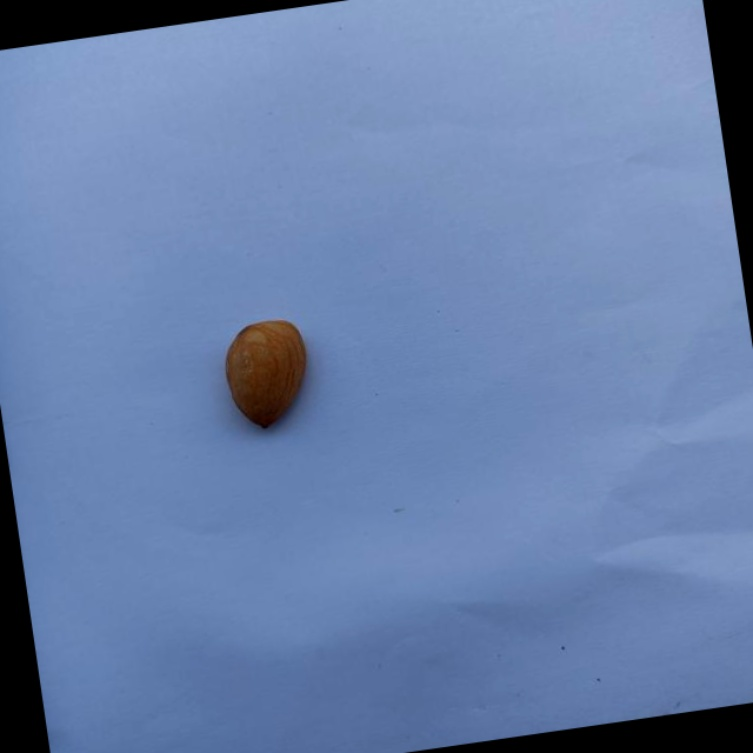grade2: (215, 311, 324, 437)
